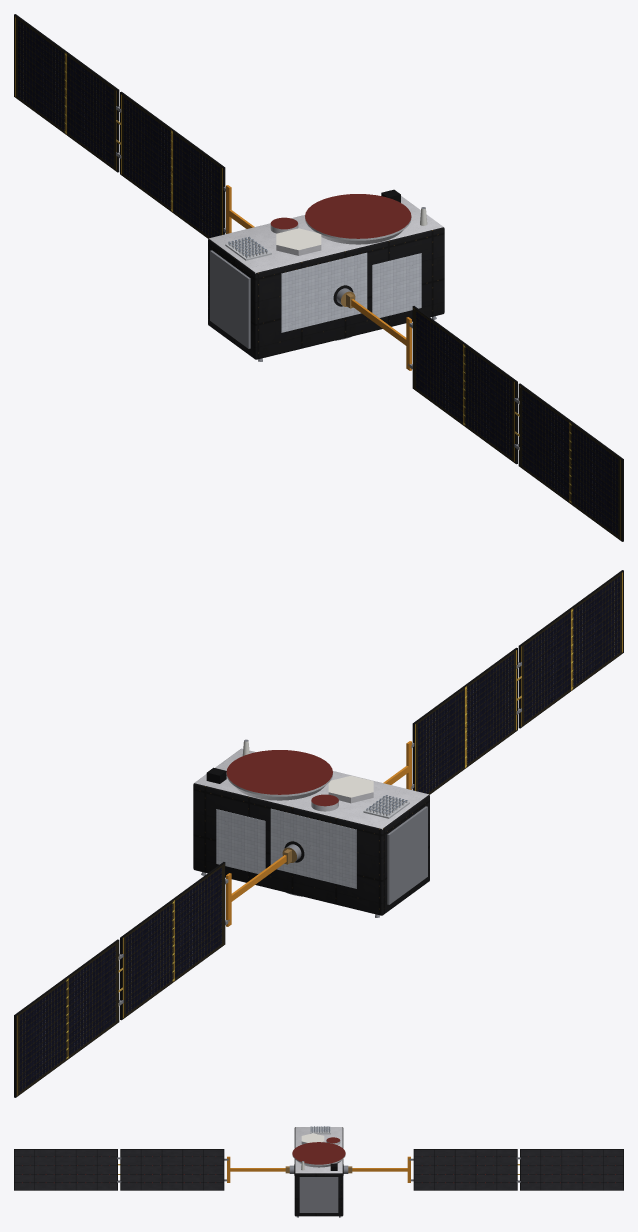
Rendered from galileo-iov.glb.
3 views of the same model, one above another, from view 1: azimuth 30°, elevation 25°; view 2: azimuth 150°, elevation 25°; view 3: azimuth 270°, elevation 25° (orthographic). The views are drawn at different scales.
Visible parts, largest first — view 1: bus, wing-Y, wing+Y, nadir_antennas_and_lra; view 2: bus, wing+Y, wing-Y, nadir_antennas_and_lra; view 3: wing+Y, wing-Y, bus, nadir_antennas_and_lra.
Part boxes in pixels (x1,y1,x2,y2): bus: (208, 196, 444, 359); wing-Y: (346, 293, 623, 541); wing+Y: (14, 14, 254, 238); nadir_antennas_and_lra: (225, 189, 427, 260); bus: (193, 748, 429, 915); wing+Y: (14, 849, 291, 1097); wing-Y: (383, 570, 623, 794); nadir_antennas_and_lra: (206, 739, 409, 818); wing+Y: (348, 1149, 623, 1190); wing-Y: (14, 1149, 289, 1190); bus: (294, 1127, 343, 1216); nadir_antennas_and_lra: (292, 1126, 345, 1170).
Size of the model in its own units: 2.67 by 1.44 by 14.5.
17 materials, 5 textured.
